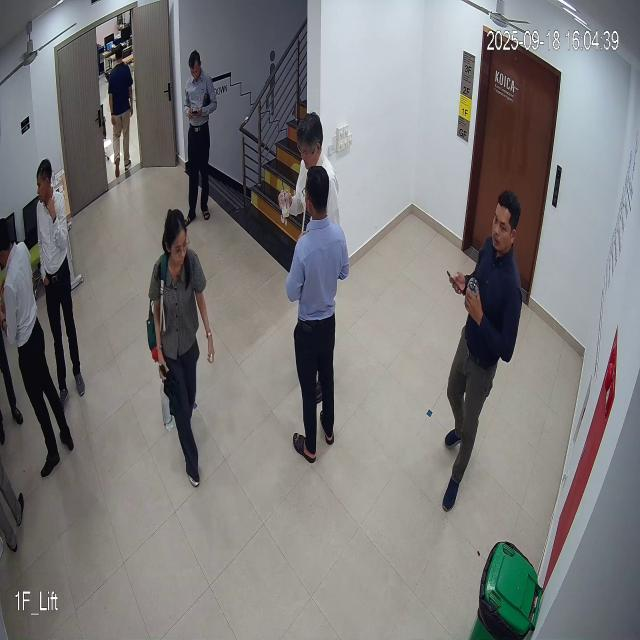face: (154, 206, 199, 271)
